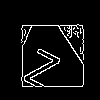Z: (22, 38, 65, 93)
